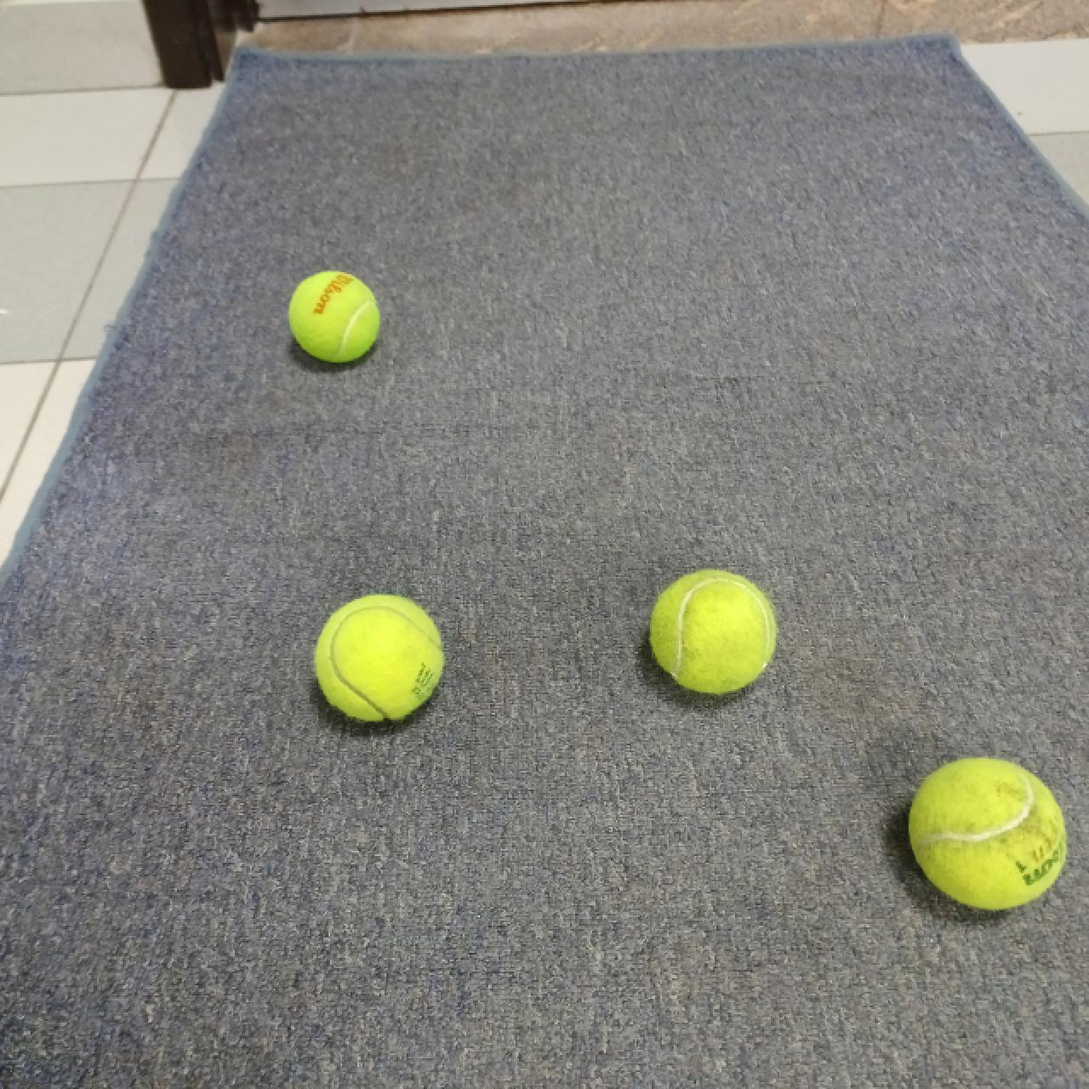tennis-ball: (905, 755, 1069, 909), (312, 591, 444, 724), (647, 568, 778, 695), (286, 269, 381, 365)
